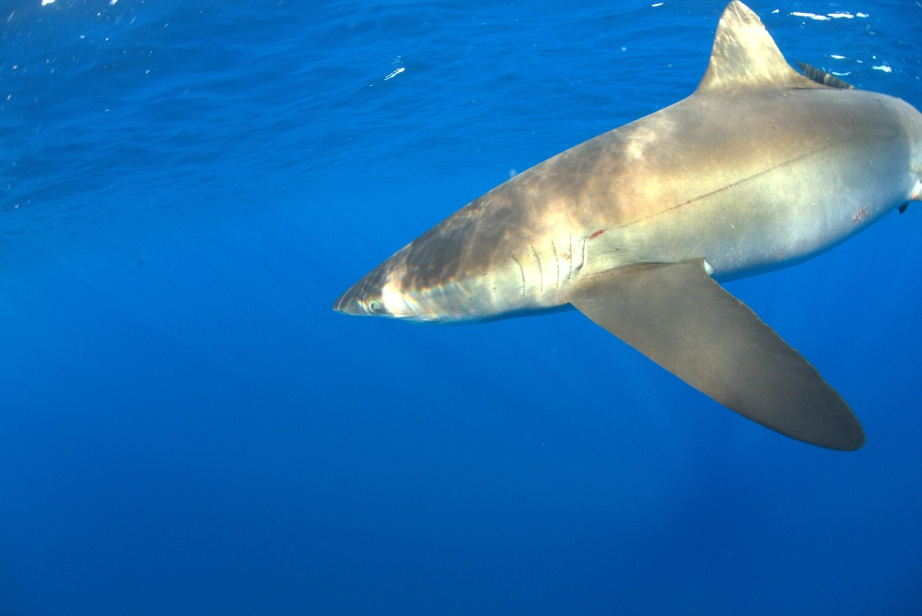Sedoso: (326, 1, 922, 459)
